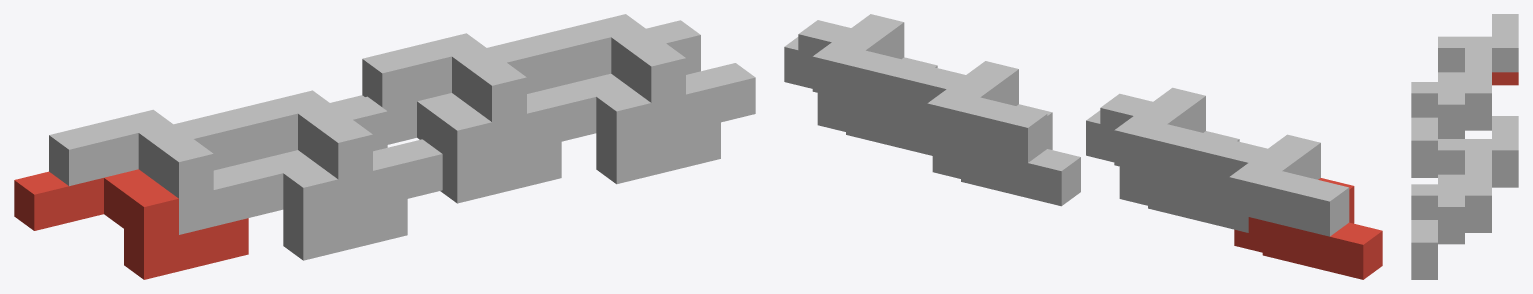
Rendered from tiling.obj.
3 views of the same model, side by side, from view 1: azimuth 30°, elevation 25°; view 2: azimuth 150°, elevation 25°; view 3: azimuth 270°, elevation 25° (orthographic). The views are drawn at different scales.
Parts seen in each view (by area): view 1: copy_1_domain_3, copy_1_domain_7, copy_1_domain_8, copy_1_domain_4, copy_1_domain_1, copy_1_domain_5, copy_1_domain_6, copy_1_domain_2; view 2: copy_1_domain_8, copy_1_domain_4, copy_1_domain_3, copy_1_domain_7, copy_1_domain_1, copy_1_domain_5, copy_1_domain_6, copy_1_domain_2; view 3: copy_1_domain_8, copy_1_domain_4, copy_1_domain_3, copy_1_domain_7, copy_1_domain_6, copy_1_domain_2, copy_1_domain_1, copy_1_domain_5.
Part boxes in pixels (<box>): copy_1_domain_3: <box>49,109,283,234</box>; copy_1_domain_7: <box>362,33,596,158</box>; copy_1_domain_8: <box>522,14,755,139</box>; copy_1_domain_4: <box>209,90,442,215</box>; copy_1_domain_1: <box>14,169,248,279</box>; copy_1_domain_5: <box>330,93,561,203</box>; copy_1_domain_6: <box>576,73,720,184</box>; copy_1_domain_2: <box>263,150,407,260</box>; copy_1_domain_8: <box>784,14,931,115</box>; copy_1_domain_4: <box>1086,87,1233,189</box>; copy_1_domain_3: <box>1215,134,1349,236</box>; copy_1_domain_7: <box>913,61,1047,162</box>; copy_1_domain_1: <box>1234,178,1382,279</box>; copy_1_domain_5: <box>932,104,1080,206</box>; copy_1_domain_6: <box>817,57,946,159</box>; copy_1_domain_2: <box>1119,131,1248,232</box>; copy_1_domain_8: <box>1411,161,1491,266</box>; copy_1_domain_4: <box>1411,59,1491,164</box>; copy_1_domain_3: <box>1438,14,1518,81</box>; copy_1_domain_7: <box>1438,116,1518,184</box>; copy_1_domain_6: <box>1411,220,1491,279</box>; copy_1_domain_2: <box>1411,117,1491,177</box>; copy_1_domain_1: <box>1492,72,1518,85</box>; copy_1_domain_5: <box>1492,174,1518,187</box>.
Bounding box in the file's own units: 19 × 3 × 4.
